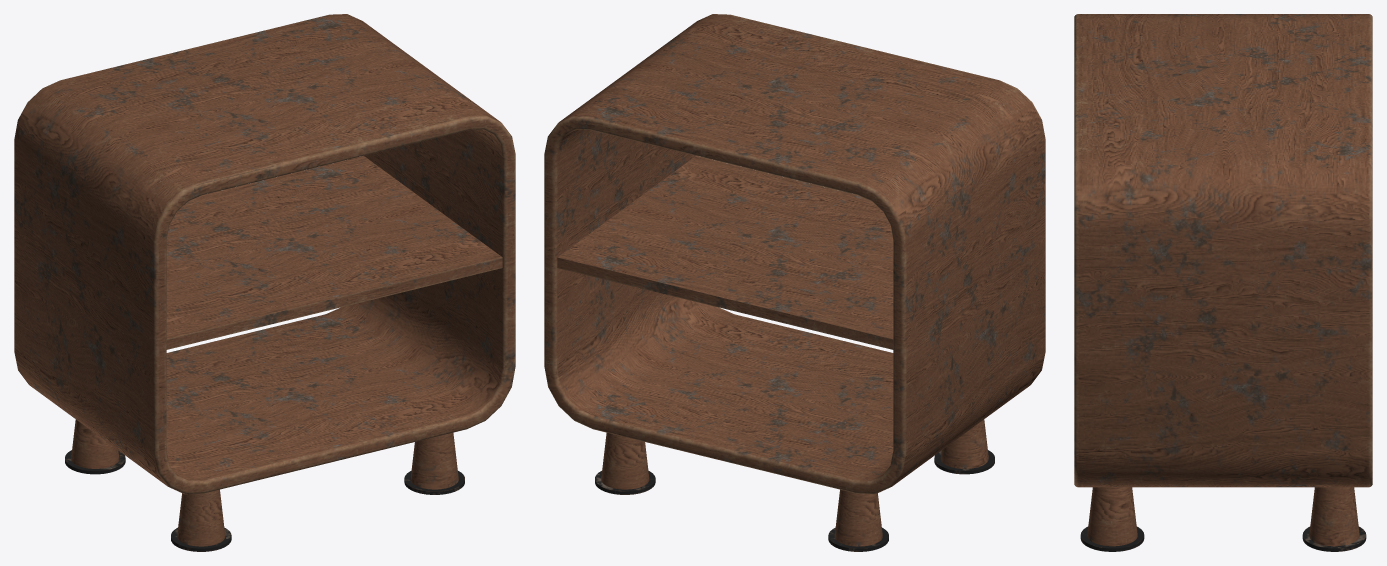
Rendered from TV Stand.fbx.
3 views of the same model, side by side, from view 1: azimuth 30°, elevation 25°; view 2: azimuth 150°, elevation 25°; view 3: azimuth 270°, elevation 25° (orthographic). The views are drawn at different scales.
Parts seen in each view (by area): view 1: TV stand; view 2: TV stand; view 3: TV stand.
Boxes of the visible parts, <box> form: TV stand: <box>14,14,515,551</box>; TV stand: <box>544,14,1045,551</box>; TV stand: <box>1074,14,1372,551</box>.
Size of the model in its own units: 35.52 by 35.05 by 24.26.
Materials: 1 (1 with a texture image).
